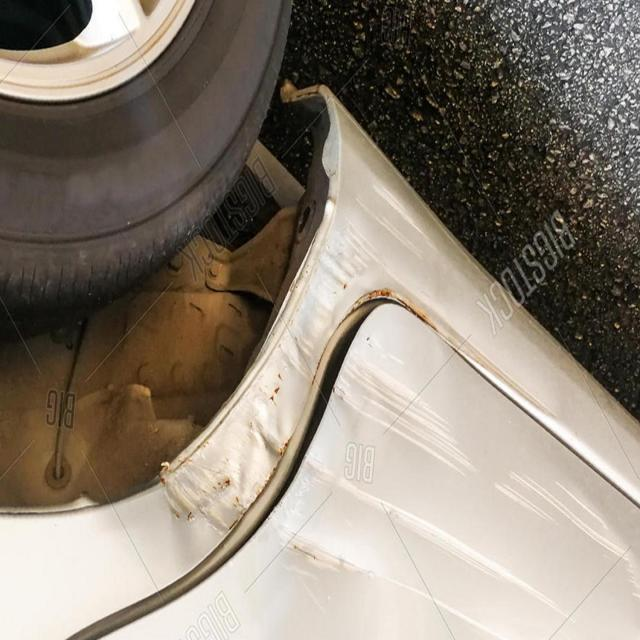dent: (174, 273, 365, 560)
